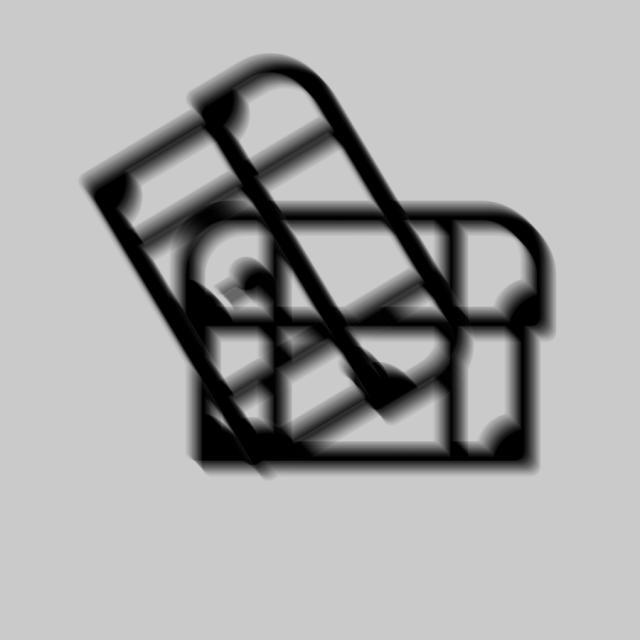treasure_box: (72, 49, 483, 489), (178, 189, 562, 489)
